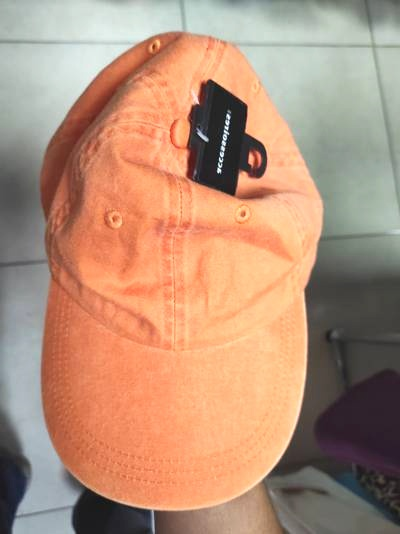Hat: (22, 24, 348, 518)
